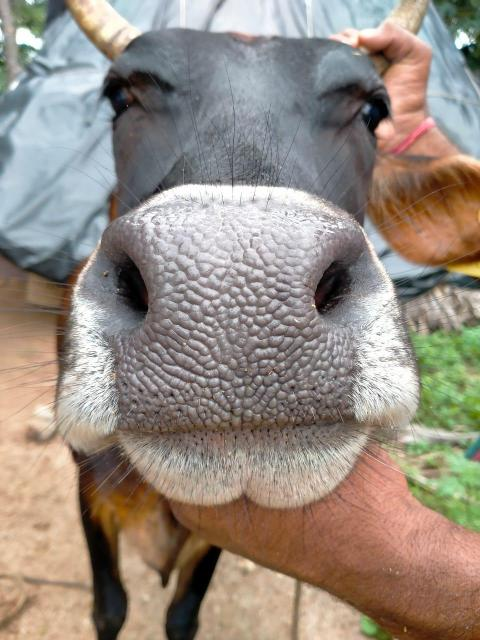Muzzle: (61, 174, 357, 428)
